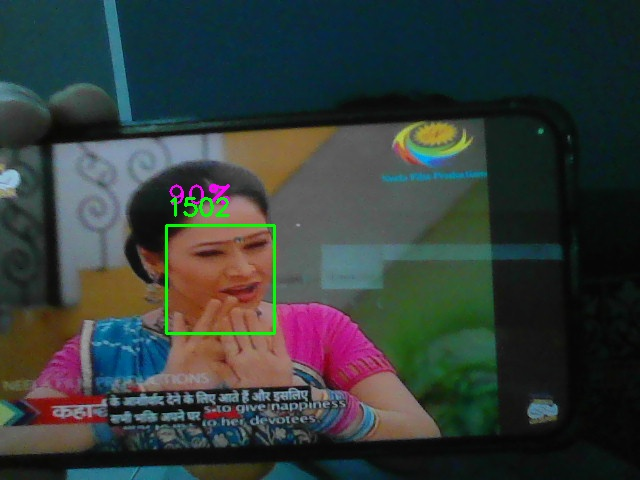fake: (166, 225, 275, 334)
